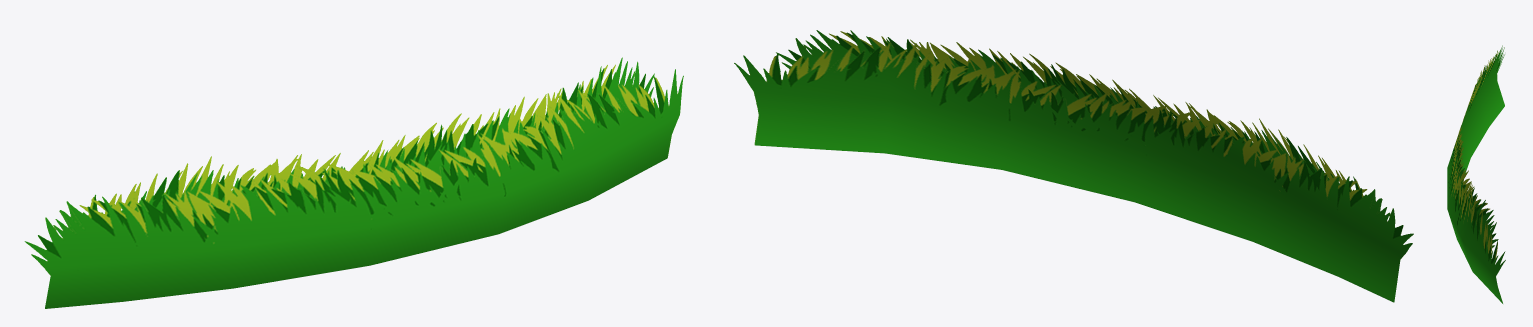
File: SM_Grass_01.fbx
3 views of the same model, side by side, from view 1: azimuth 30°, elevation 25°; view 2: azimuth 150°, elevation 25°; view 3: azimuth 270°, elevation 25° (orthographic). The views are drawn at different scales.
Visible parts, largest first — view 1: SM_Grass_01; view 2: SM_Grass_01; view 3: SM_Grass_01.
Part boxes in pixels (x1,y1,x2,y2): SM_Grass_01: (24,57,683,308); SM_Grass_01: (734,30,1413,302); SM_Grass_01: (1447,45,1505,303).
Bounding box in the file's own units: 40.27 × 7.68 × 5.72.
